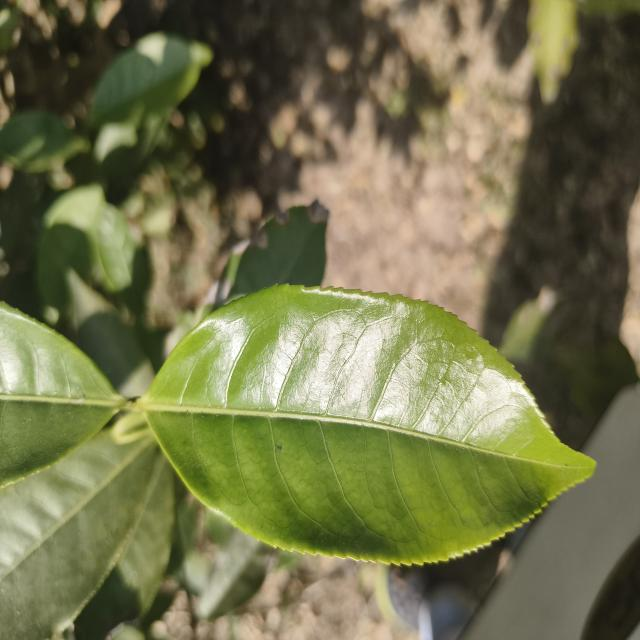Leaf: (142, 285, 595, 564), (0, 431, 167, 640), (0, 302, 126, 486), (215, 200, 329, 306), (91, 32, 212, 125), (68, 272, 155, 399), (117, 451, 175, 615), (37, 185, 105, 311), (198, 529, 274, 619), (96, 205, 150, 317), (0, 111, 89, 173), (528, 0, 578, 103)
